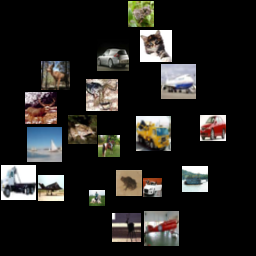airplane: (161, 64, 196, 99), (144, 211, 179, 246), (38, 175, 64, 201)
automobile: (97, 39, 129, 71), (200, 115, 226, 141), (143, 178, 162, 197)
cat: (140, 30, 172, 62)
deer: (25, 92, 57, 124), (112, 213, 141, 242), (41, 61, 70, 90)
frog: (86, 79, 118, 111), (68, 115, 97, 144), (128, 1, 154, 27), (116, 170, 142, 196)
ship: (27, 127, 62, 162), (182, 166, 208, 192)
